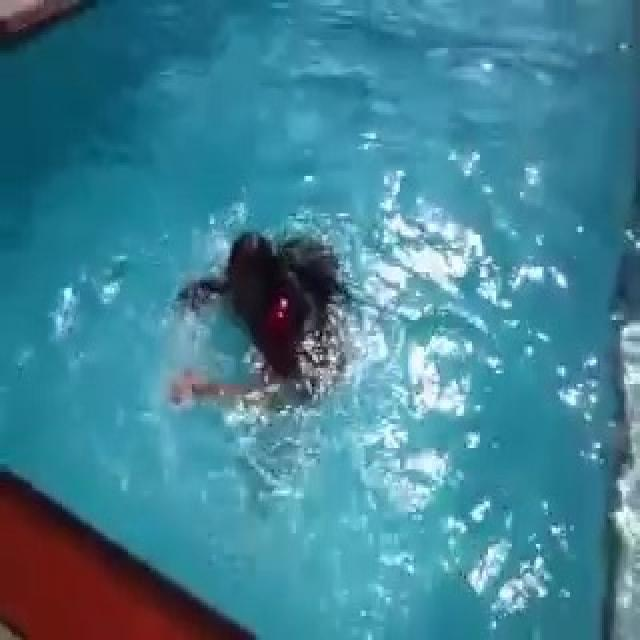drowning: (165, 206, 363, 474)
